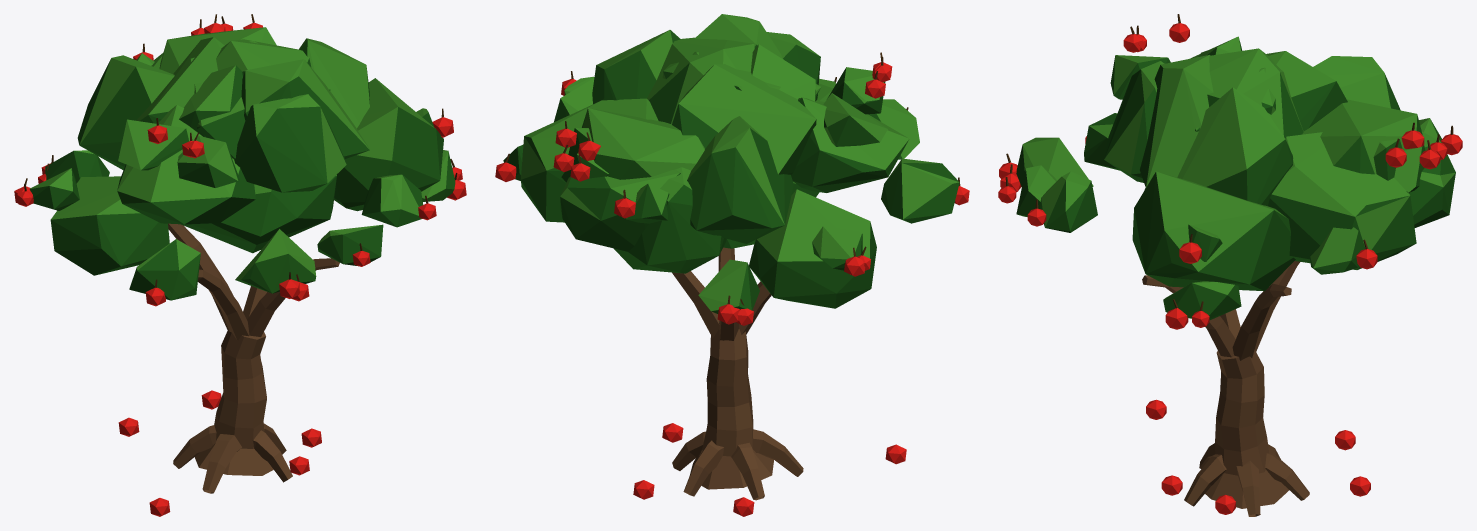
File: tree_apple.glb
The picture shows the model from 3 angles, left to right: view 1: azimuth 30°, elevation 25°; view 2: azimuth 150°, elevation 25°; view 3: azimuth 270°, elevation 25°; orthographic projection. The views are drawn at different scales.
Parts seen in each view (by area): view 1: TreeApple; view 2: TreeApple; view 3: TreeApple.
Part boxes in pixels (x1,y1,x2,y2): TreeApple: (14, 14, 466, 516); TreeApple: (495, 14, 969, 516); TreeApple: (998, 14, 1462, 516).
Bounding box in the file's own units: 4.17 × 4.43 × 4.17.
